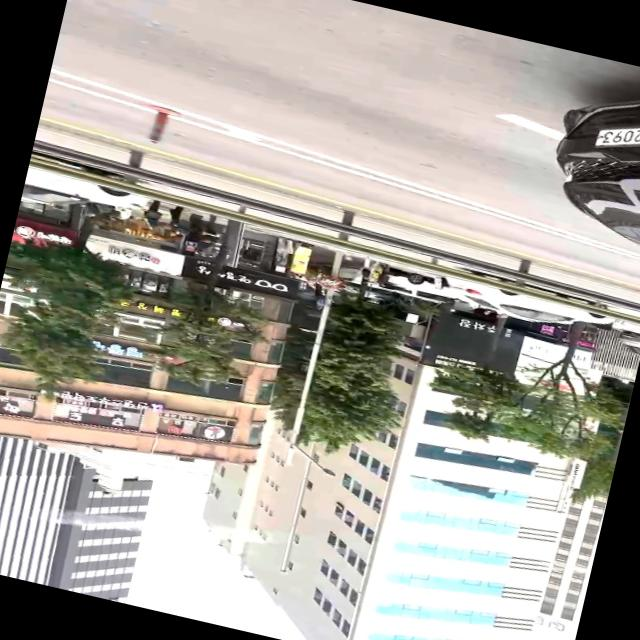building: (208, 257, 624, 640), (0, 176, 312, 497), (0, 424, 159, 604)
car: (536, 64, 640, 257), (430, 261, 620, 340), (20, 150, 153, 228), (614, 327, 640, 354)
